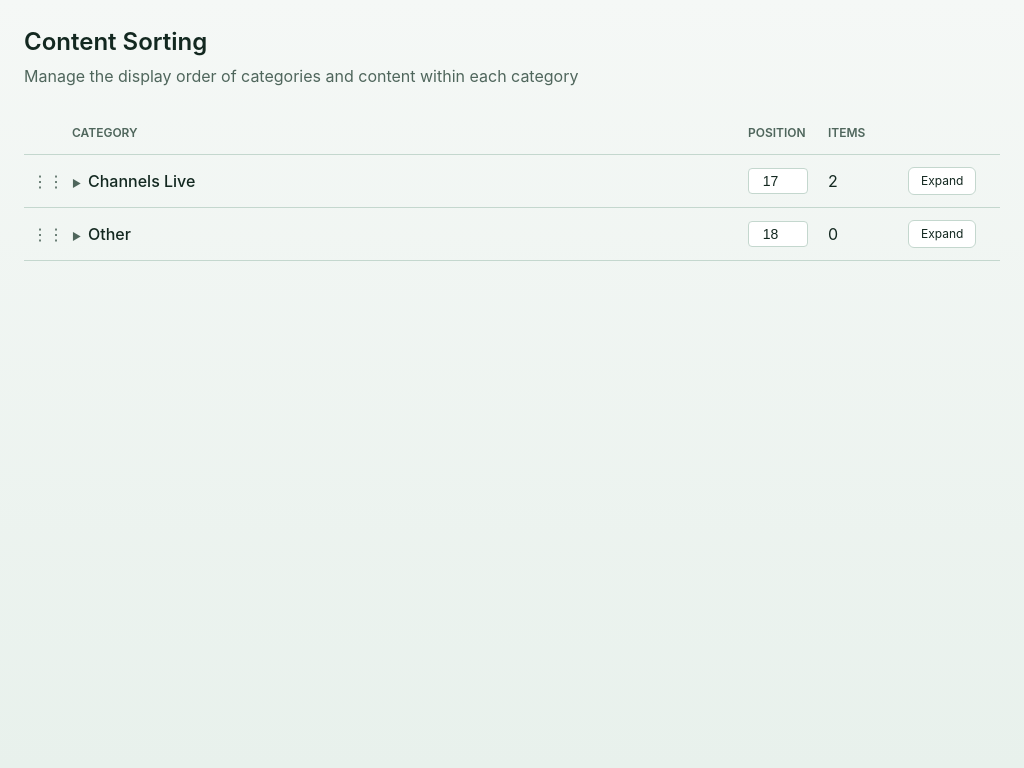
Test: Content Sorting on a live category (spec §8) › does not offer playlists in the add-content modal of a live category
Click the text "Channels Live" at coordinates (142, 181), box [88, 171, 195, 191]
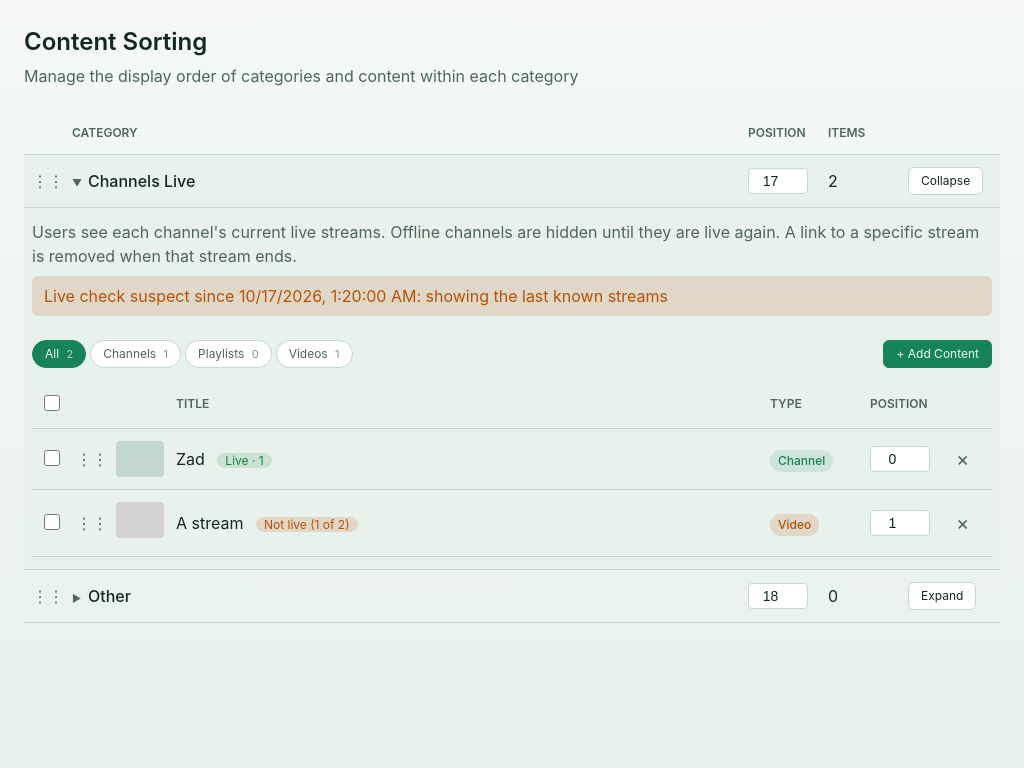
Now the text "Live · 1" is shown, box [217, 453, 272, 468]
Click the button "+ Add Content" at coordinates (938, 354), box [884, 340, 992, 368]
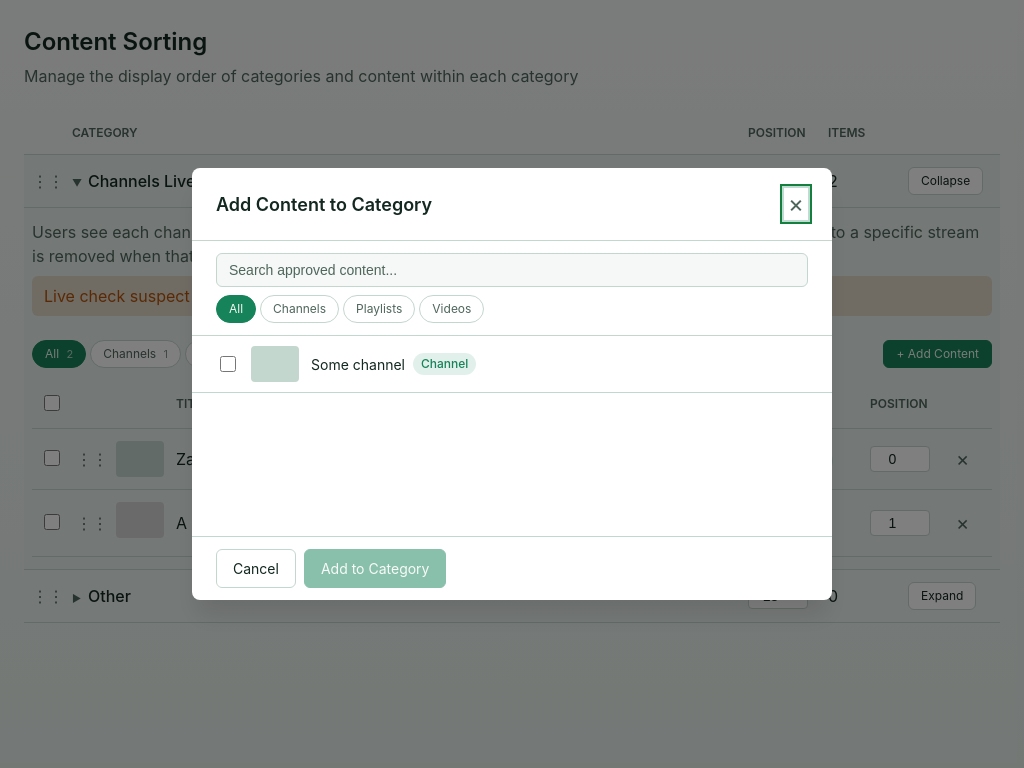
Now the text "Some channel" is shown, box [311, 354, 405, 374]
